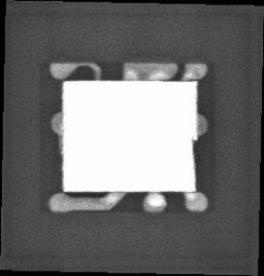DIE_BROKEN: (189, 136, 198, 167)
